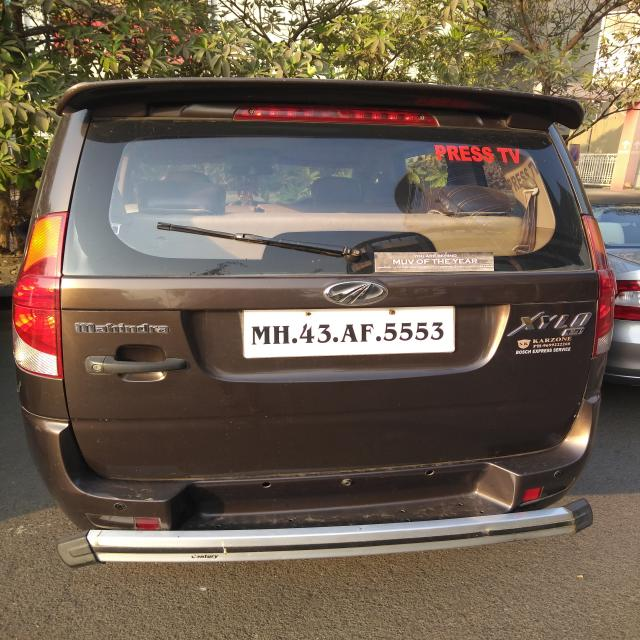Number-Plate: (242, 309, 458, 354)
